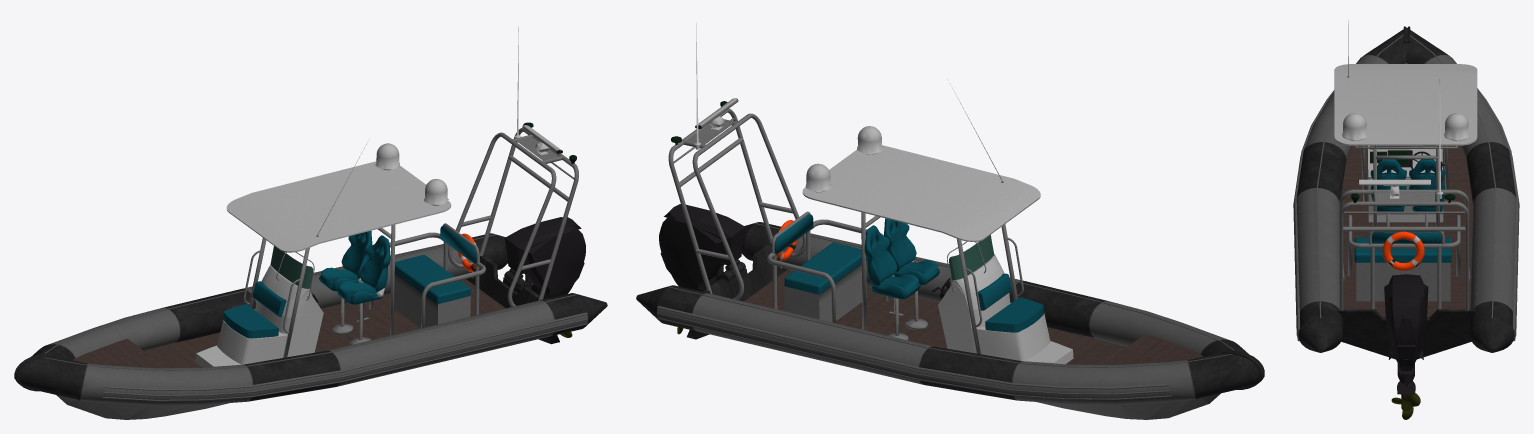
The model's file is BallonBoat.fbx.
3 views of the same model, side by side, from view 1: azimuth 30°, elevation 25°; view 2: azimuth 150°, elevation 25°; view 3: azimuth 270°, elevation 25° (orthographic). The views are drawn at different scales.
Visible parts, largest first — view 1: Boat, Details, Engine; view 2: Boat, Details, Engine; view 3: Boat, Details, Engine, Propeler.
Part boxes in pixels (bbox=[...]): Boat: bbox=[14, 233, 607, 419]; Details: bbox=[195, 26, 578, 367]; Engine: bbox=[504, 217, 585, 344]; Boat: bbox=[636, 222, 1264, 419]; Details: bbox=[668, 23, 1073, 364]; Engine: bbox=[659, 204, 745, 339]; Boat: bbox=[1293, 26, 1519, 359]; Details: bbox=[1334, 20, 1477, 310]; Engine: bbox=[1384, 274, 1428, 398]; Propeler: bbox=[1391, 393, 1420, 419].
Size of the model in its own units: 558 by 304 by 184.
Materials: 5 (2 with a texture image).
